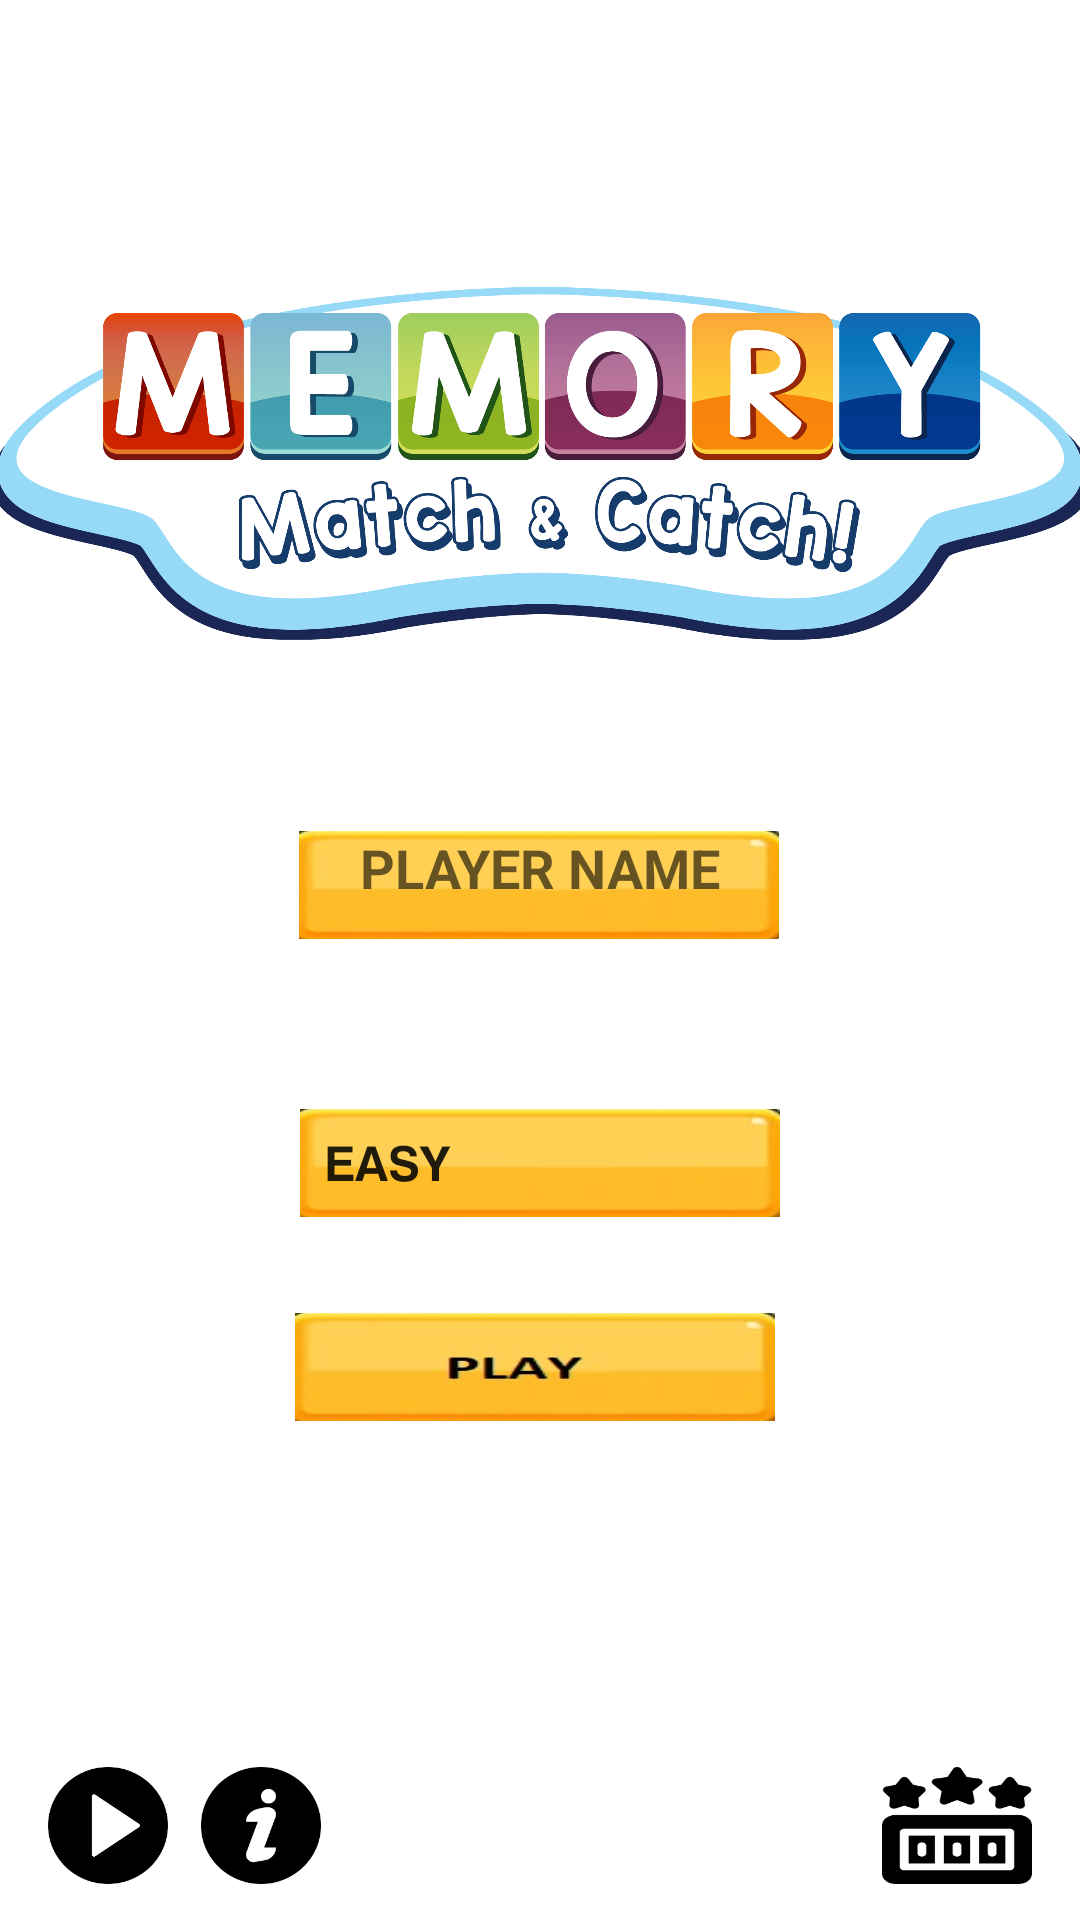

Named icons in this screenshot (1080×1920) and their centers, (x=x, y=y):
aide: (x=261, y=1825)
play: (x=108, y=1825)
scores: (x=957, y=1825)
